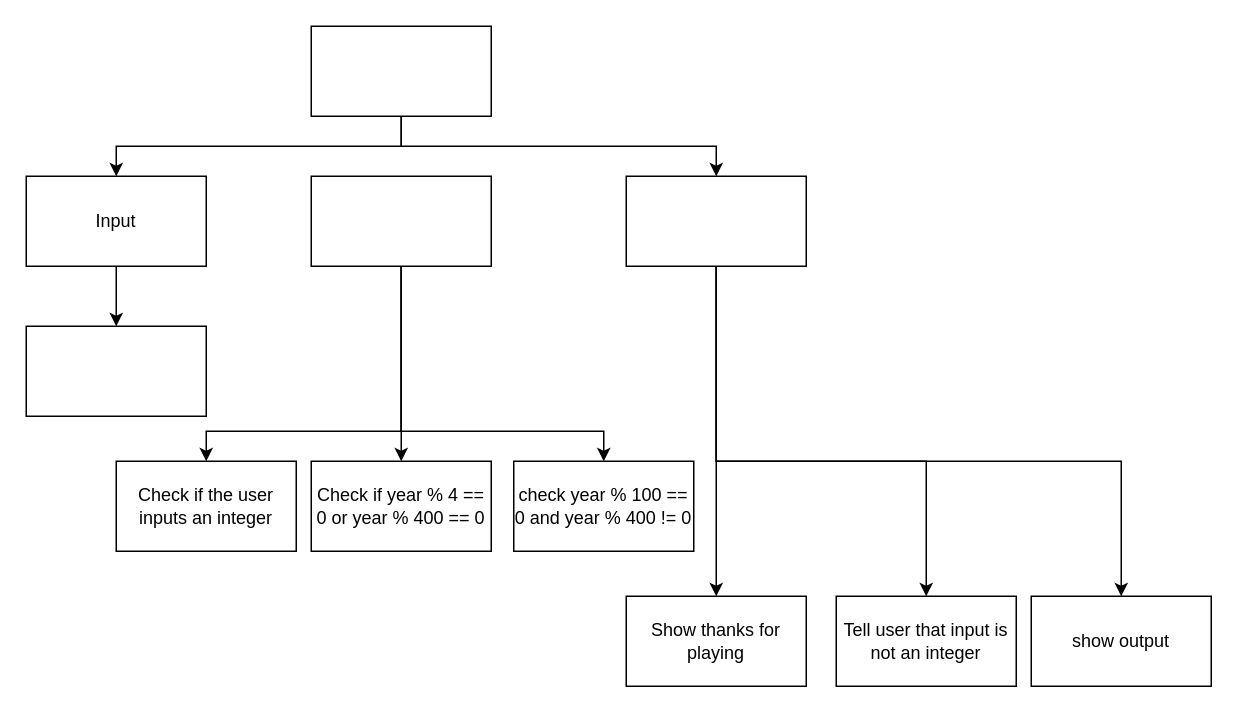
This 1238x713 diagram has some shape labels left out. Each missing label, with the centre of its shape:
Get year from user: the point at 115,370
Leap Year program: the point at 400,70
Output: the point at 715,220
Process: the point at 400,220
